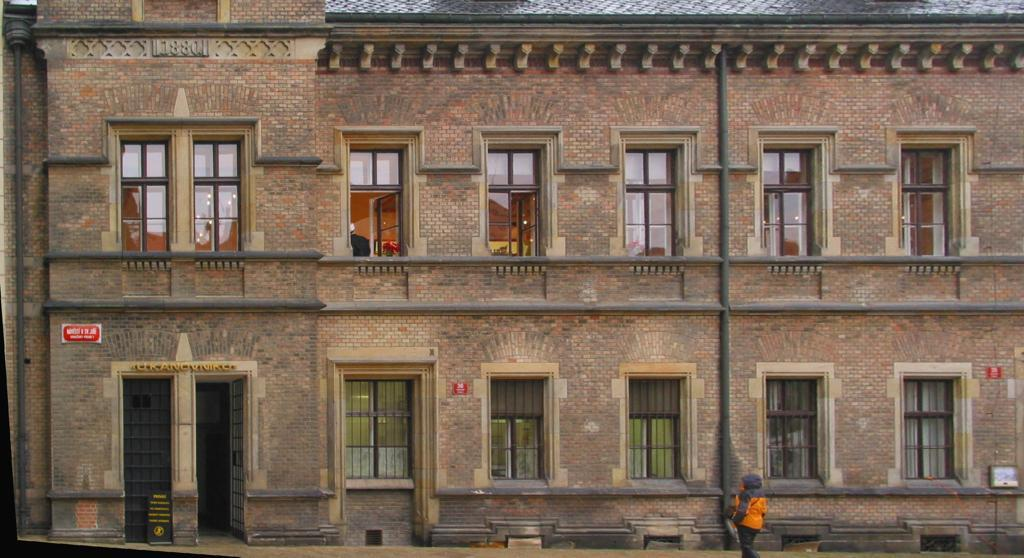window: (345, 375, 422, 488), (901, 142, 960, 257), (350, 142, 406, 256), (629, 377, 688, 485), (764, 145, 821, 256), (628, 144, 684, 256), (489, 145, 545, 256), (767, 378, 824, 487), (492, 377, 548, 487), (905, 378, 961, 487), (119, 135, 171, 252), (193, 136, 243, 252)
